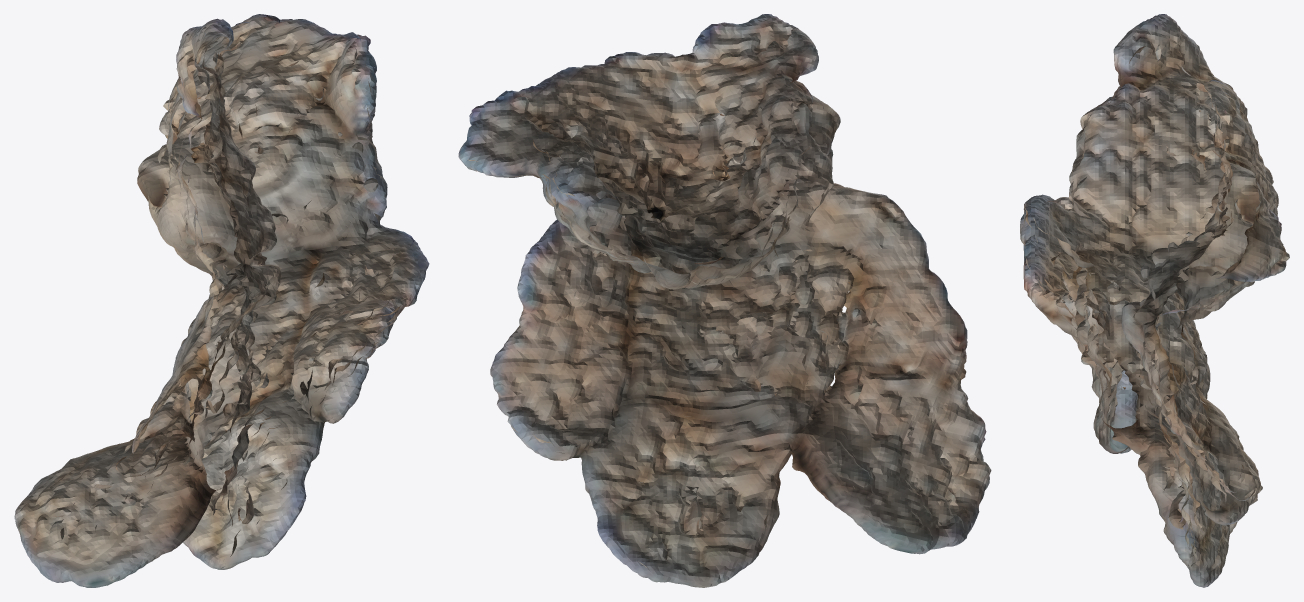
3 views of the same model, side by side, from view 1: azimuth 30°, elevation 25°; view 2: azimuth 150°, elevation 25°; view 3: azimuth 270°, elevation 25° (orthographic). The views are drawn at different scales.
Parts seen in each view (by area): view 1: geometry_0; view 2: geometry_0; view 3: geometry_0.
Boxes of the visible parts, <box> form: geometry_0: <box>14,14,429,587</box>; geometry_0: <box>458,14,991,587</box>; geometry_0: <box>1020,14,1289,587</box>.
Size of the model in its own units: 1.3 by 1.6 by 0.7389.
